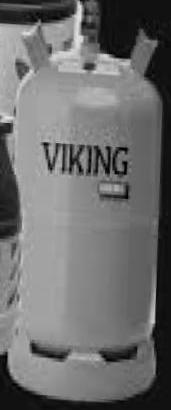cylinder: (0, 1, 171, 410)
